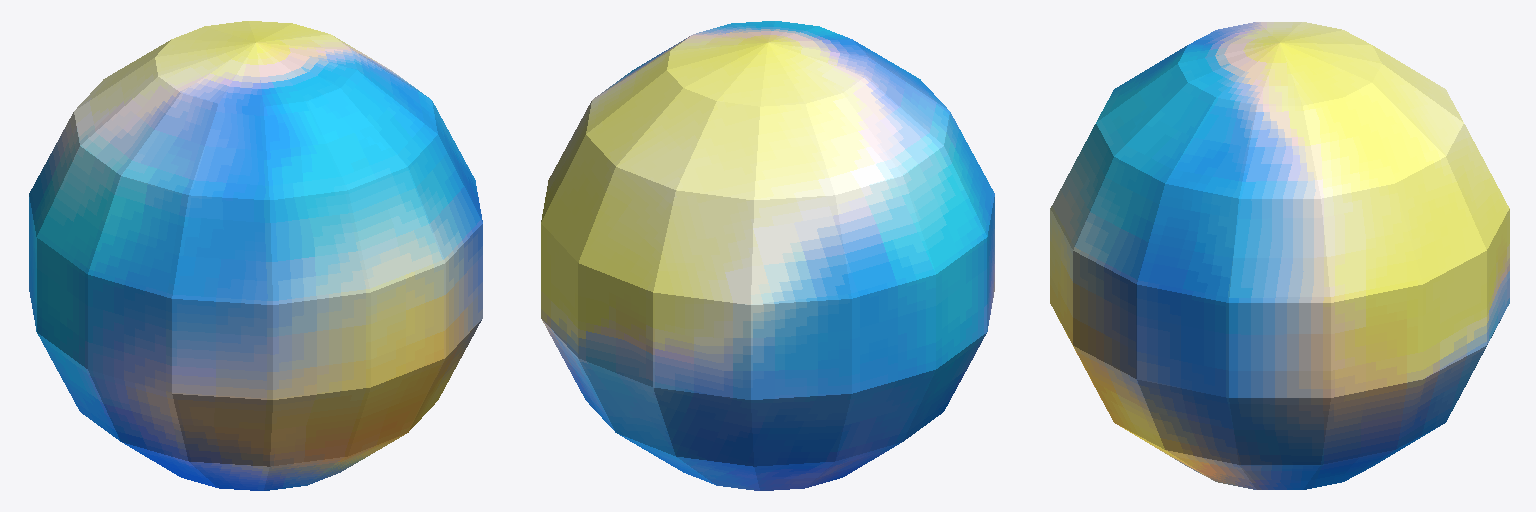
The picture shows the model from 3 angles: view 1: azimuth 30°, elevation 25°; view 2: azimuth 150°, elevation 25°; view 3: azimuth 270°, elevation 25°; orthographic projection.
Parts seen in each view (by area): view 1: joy_sadness_mixed_memory_prop; view 2: joy_sadness_mixed_memory_prop; view 3: joy_sadness_mixed_memory_prop.
Part boxes in pixels (x1,y1,x2,y2): joy_sadness_mixed_memory_prop: (29, 21, 482, 490); joy_sadness_mixed_memory_prop: (541, 21, 994, 490); joy_sadness_mixed_memory_prop: (1050, 22, 1509, 489).
Size of the model in its own units: 133 by 140 by 136.
Materials: 1 (1 with a texture image).